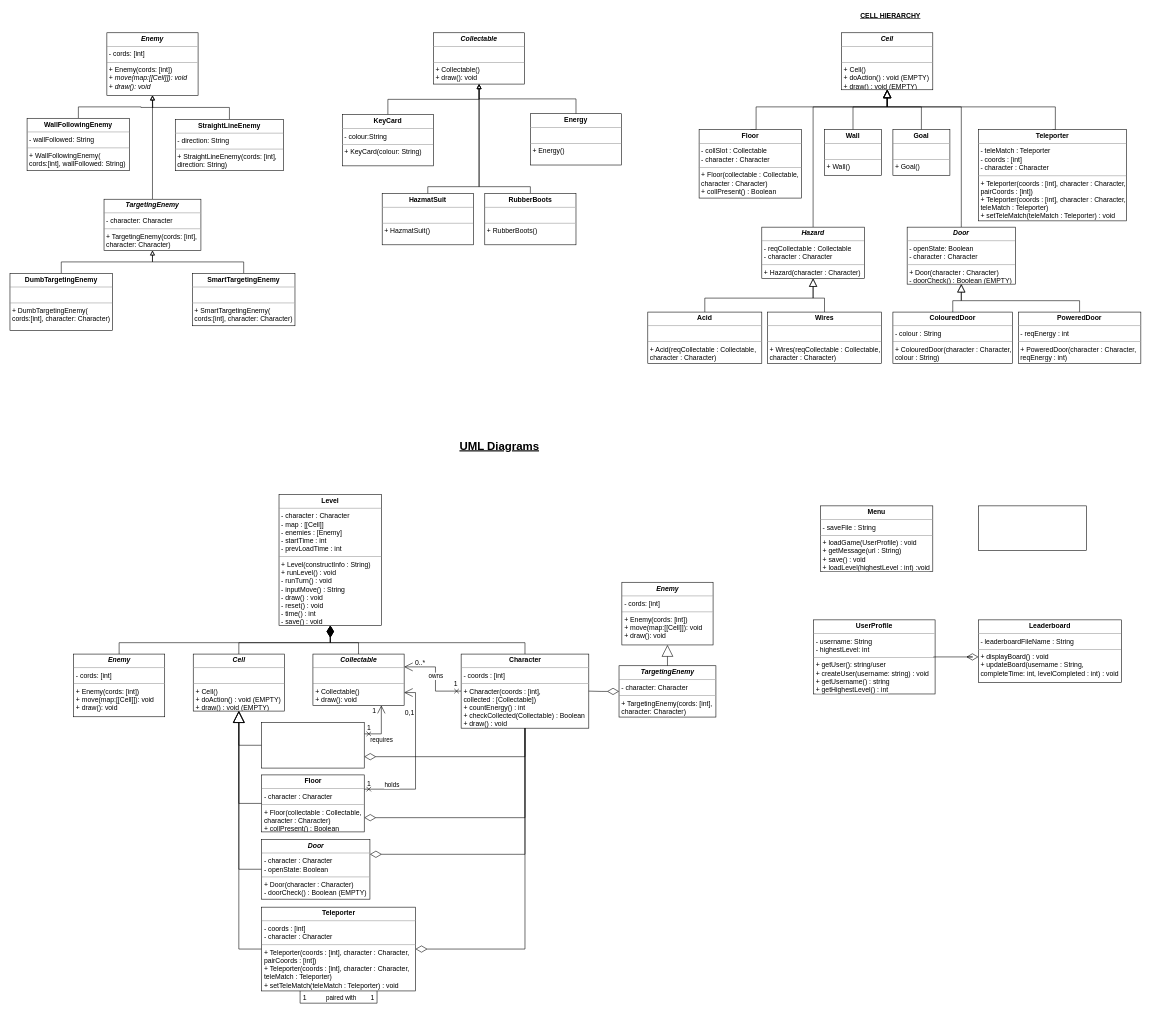
The diagram is 1162 pixels wide and 1013 high, and some of its shapes have lost their labels. Each missing label, with the box of its shape:
FileReader + read(filename : String) : [String]: (978, 505, 1087, 550)
Hazard - character : Character + Hazard(character : Character): (261, 722, 364, 768)
